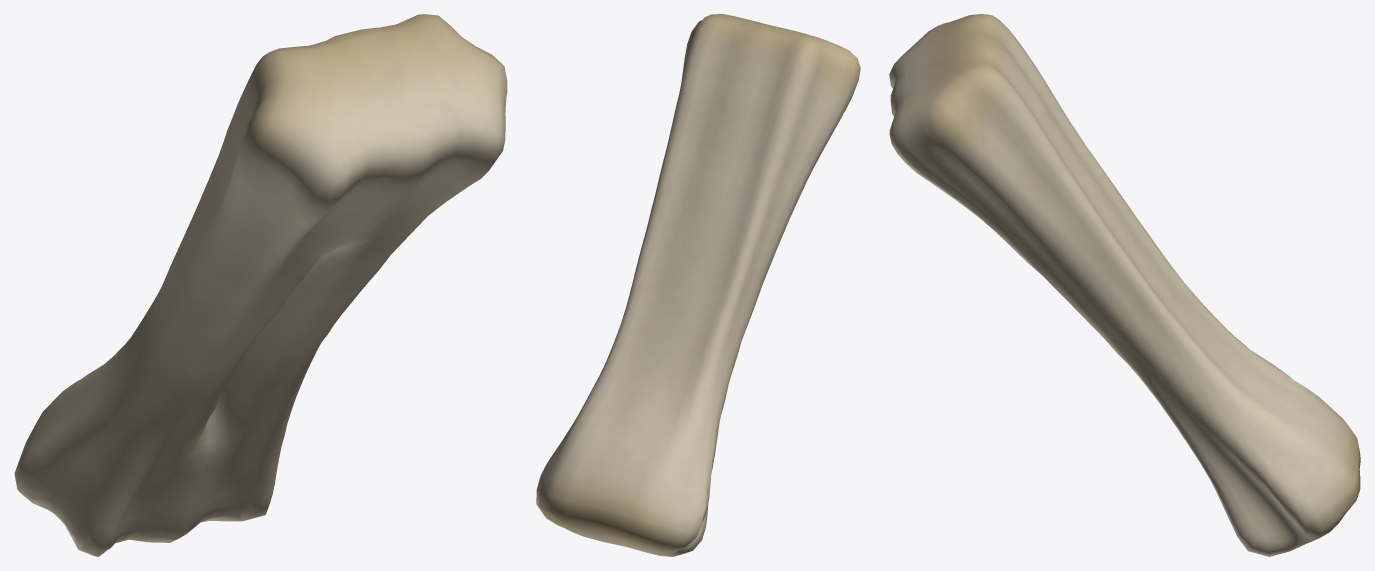
The model's file is vertebrae caudales 11.fbx.
The picture shows the model from 3 angles, left to right: view 1: azimuth 30°, elevation 25°; view 2: azimuth 150°, elevation 25°; view 3: azimuth 270°, elevation 25°; orthographic projection. The views are drawn at different scales.
Visible parts, largest first — view 1: vertebrae caudales 11; view 2: vertebrae caudales 11; view 3: vertebrae caudales 11.
Part boxes in pixels (x1,y1,x2,y2): vertebrae caudales 11: [14, 14, 507, 556]; vertebrae caudales 11: [536, 14, 860, 556]; vertebrae caudales 11: [889, 14, 1360, 556].
Bounding box in the file's own units: 2.15 × 5.27 × 4.6.
